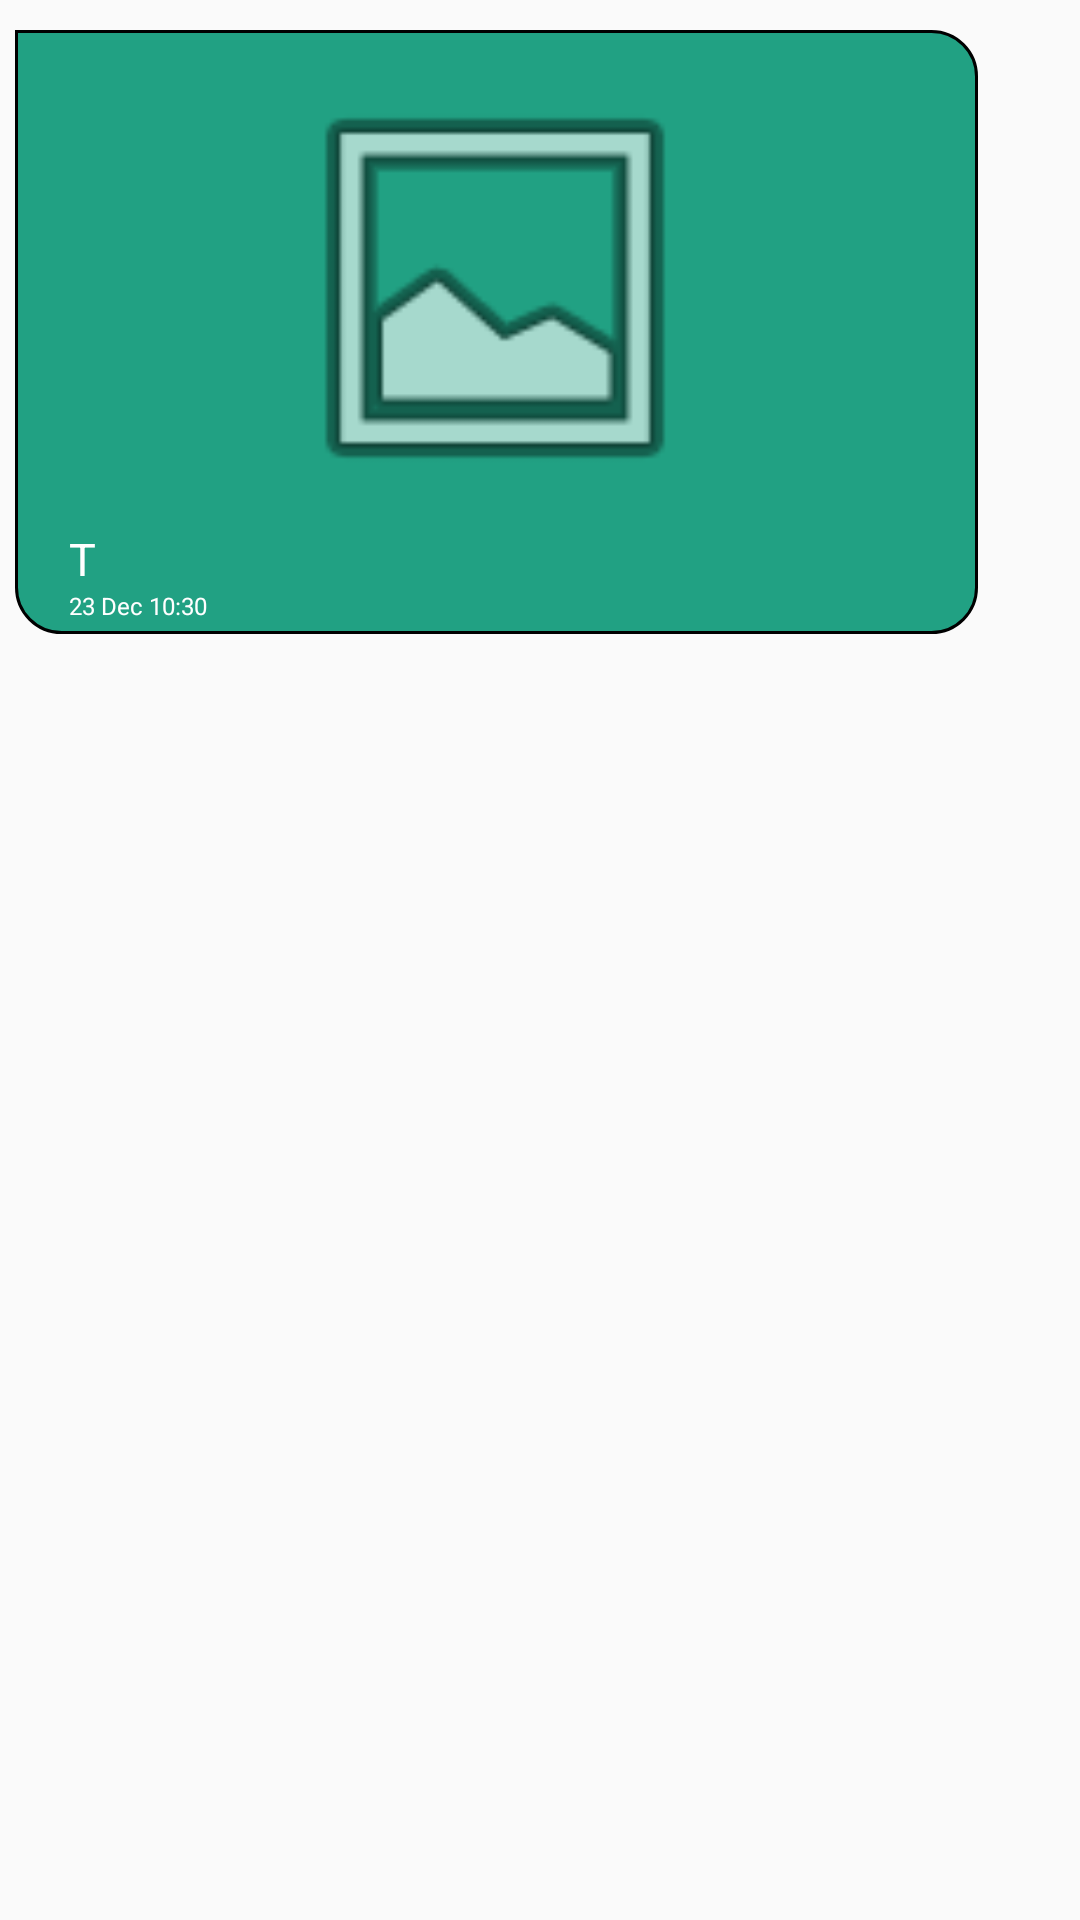

Icons on this 1080 x 1920 Android screen, each with the point to tap as point (x, y):
gallery: point (495, 288)
